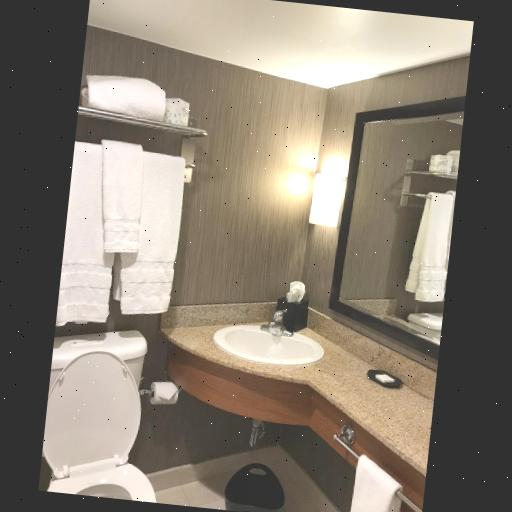clean mirror: (330, 90, 462, 340)
clean_sink: (160, 296, 435, 512)
clean_toilet: (42, 326, 170, 502)
folded_towel: (54, 137, 184, 338), (408, 187, 458, 307), (80, 74, 171, 122), (349, 451, 403, 512)
